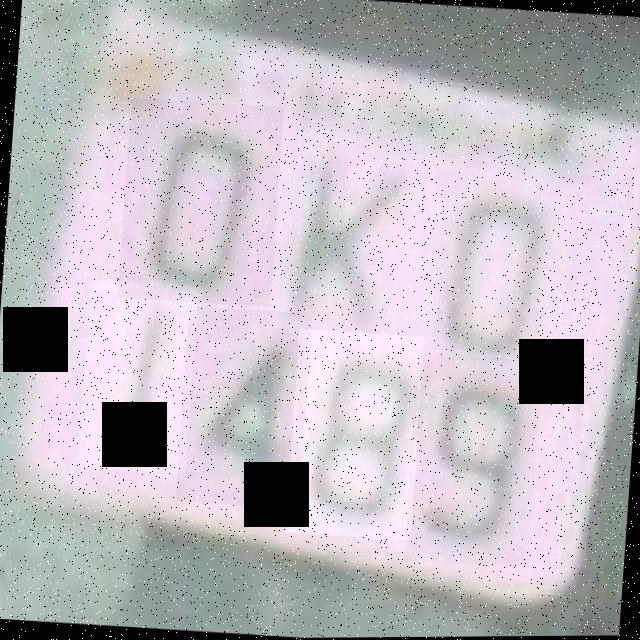1: (78, 279, 198, 475)
4: (175, 305, 312, 510)
8: (285, 328, 424, 541)
9: (403, 353, 542, 569)
O: (118, 97, 284, 308), (416, 168, 570, 378)
